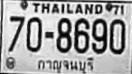0: (109, 18, 125, 53), (26, 16, 41, 51)
6: (74, 17, 88, 52)
7: (8, 15, 24, 51)
8: (56, 17, 71, 52)
9: (91, 18, 106, 53)
KRI: (35, 56, 95, 74)
